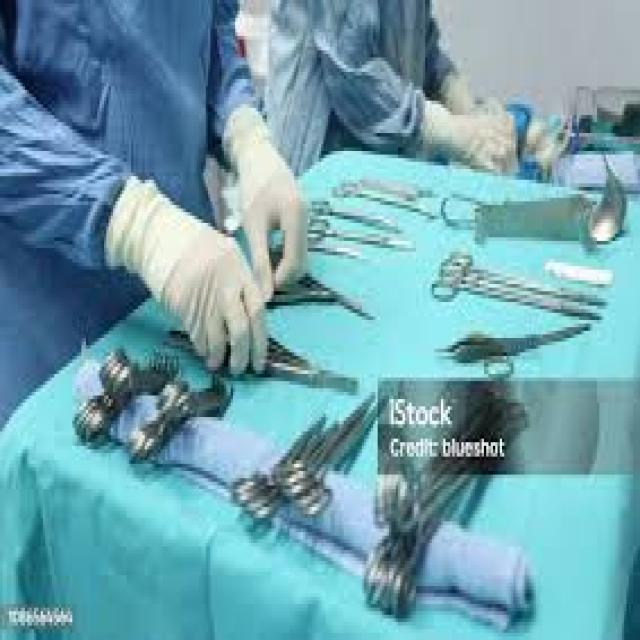tools_table: (64, 172, 638, 636)
